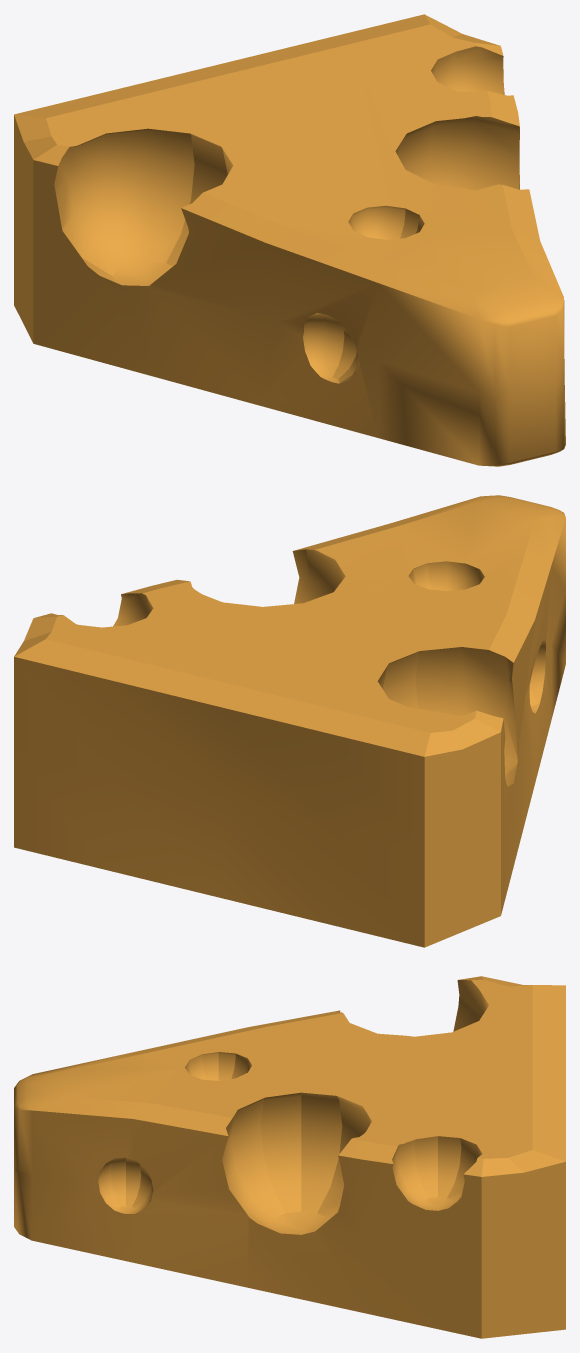
File: Keju.fbx
The picture shows the model from 3 angles, top to bottom: view 1: azimuth 30°, elevation 25°; view 2: azimuth 150°, elevation 25°; view 3: azimuth 270°, elevation 25°; orthographic projection. The views are drawn at different scales.
Parts seen in each view (by area): view 1: Keju; view 2: Keju; view 3: Keju.
Part boxes in pixels (x1,y1,x2,y2): Keju: [14, 14, 565, 466]; Keju: [14, 495, 565, 947]; Keju: [14, 976, 565, 1338].
Size of the model in its own units: 410 by 171 by 476.
